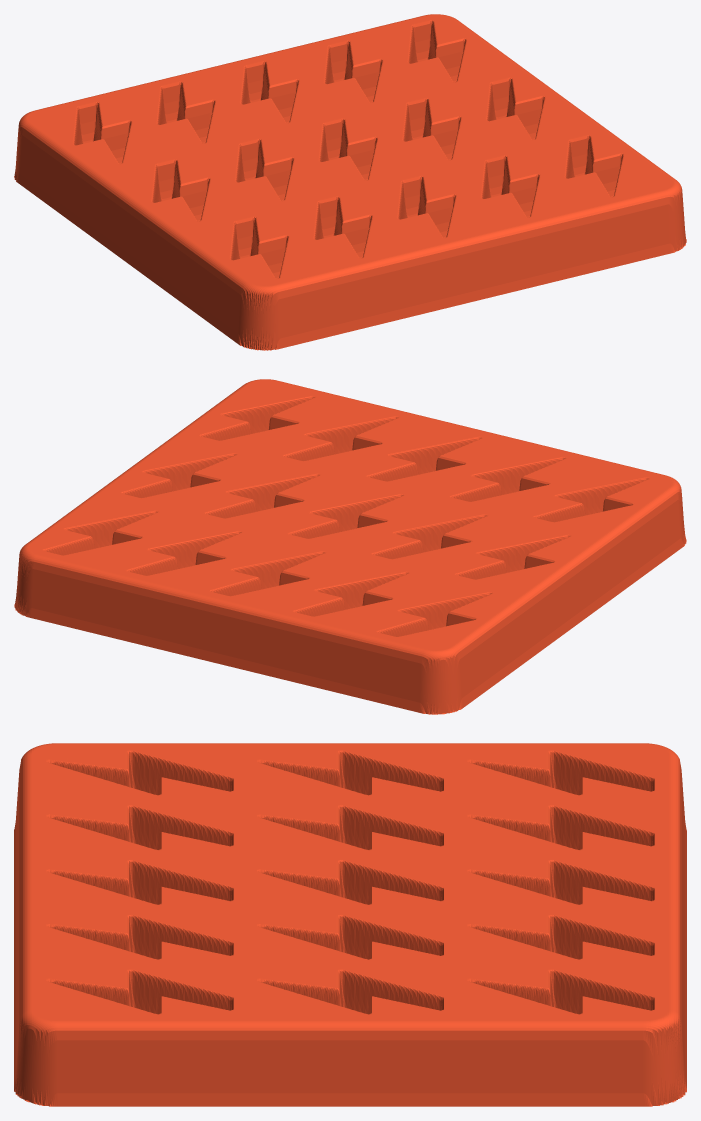
File: mold.glb
The picture shows the model from 3 angles, top to bottom: view 1: azimuth 30°, elevation 25°; view 2: azimuth 150°, elevation 25°; view 3: azimuth 270°, elevation 25°; orthographic projection. The views are drawn at different scales.
Parts seen in each view (by area): view 1: geometry_0; view 2: geometry_0; view 3: geometry_0.
Boxes of the visible parts, x1,y1,x2,y2 form: geometry_0: [14, 14, 686, 350]; geometry_0: [14, 379, 686, 714]; geometry_0: [14, 743, 686, 1106].
Size of the model in its own units: 0.1449 by 0.0182 by 0.1415.
